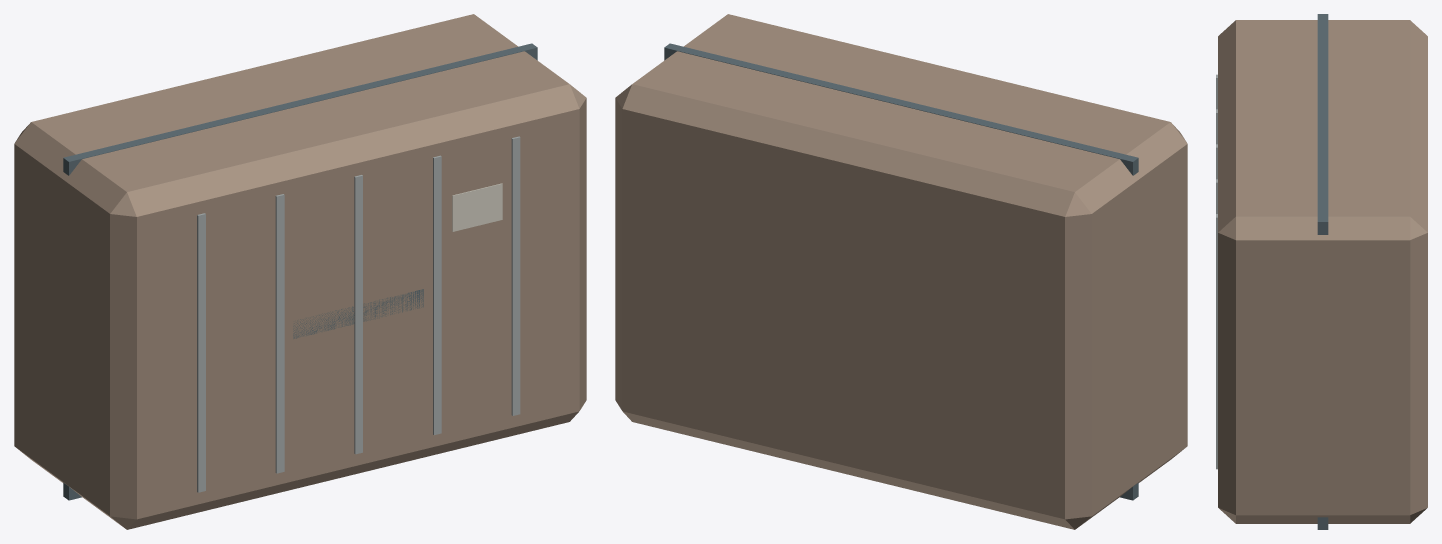
The picture shows the model from 3 angles, left to right: view 1: azimuth 30°, elevation 25°; view 2: azimuth 150°, elevation 25°; view 3: azimuth 270°, elevation 25°; orthographic projection. The views are drawn at different scales.
Visible parts, largest first — view 1: case, zipper_band, rib_-0.1023, rib_0.2046, rib_-0.2046, rib_0.0, rib_0.1023, id_tag, handle; view 2: case, zipper_band; view 3: case, zipper_band, rib_0.2046.
Boxes of the visible parts, x1=… form: case: x1=14, y1=14, x2=586, y2=529; zipper_band: x1=63, y1=43, x2=537, y2=500; rib_-0.1023: x1=275, y1=194, x2=284, y2=473; rib_0.2046: x1=511, y1=136, x2=520, y2=415; rib_-0.2046: x1=197, y1=213, x2=205, y2=492; rib_0.0: x1=354, y1=175, x2=362, y2=454; rib_0.1023: x1=433, y1=155, x2=441, y2=435; id_tag: x1=452, y1=183, x2=502, y2=231; handle: x1=293, y1=289, x2=423, y2=338; case: x1=615, y1=14, x2=1187, y2=529; zipper_band: x1=664, y1=43, x2=1138, y2=500; case: x1=1218, y1=20, x2=1427, y2=523; zipper_band: x1=1317, y1=14, x2=1328, y2=529; rib_0.2046: x1=1216, y1=214, x2=1217, y2=469.
Bounding box in the file's own units: 0.62 × 0.421 × 0.2625.
